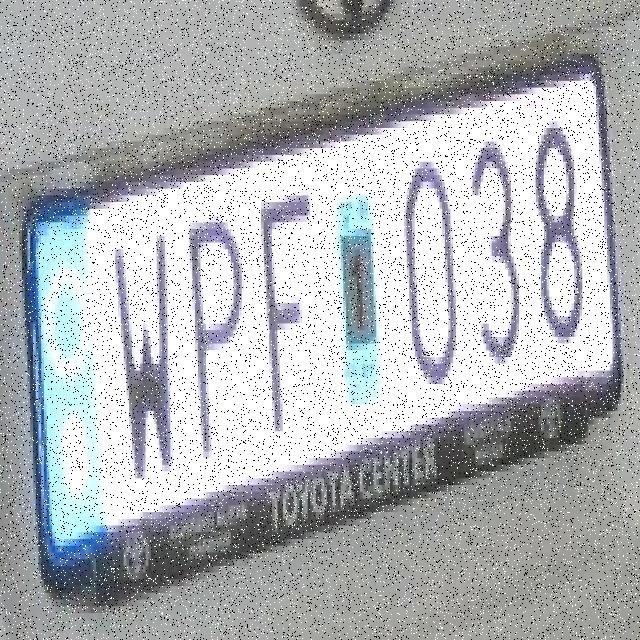licenseplate: (20, 33, 632, 605)
